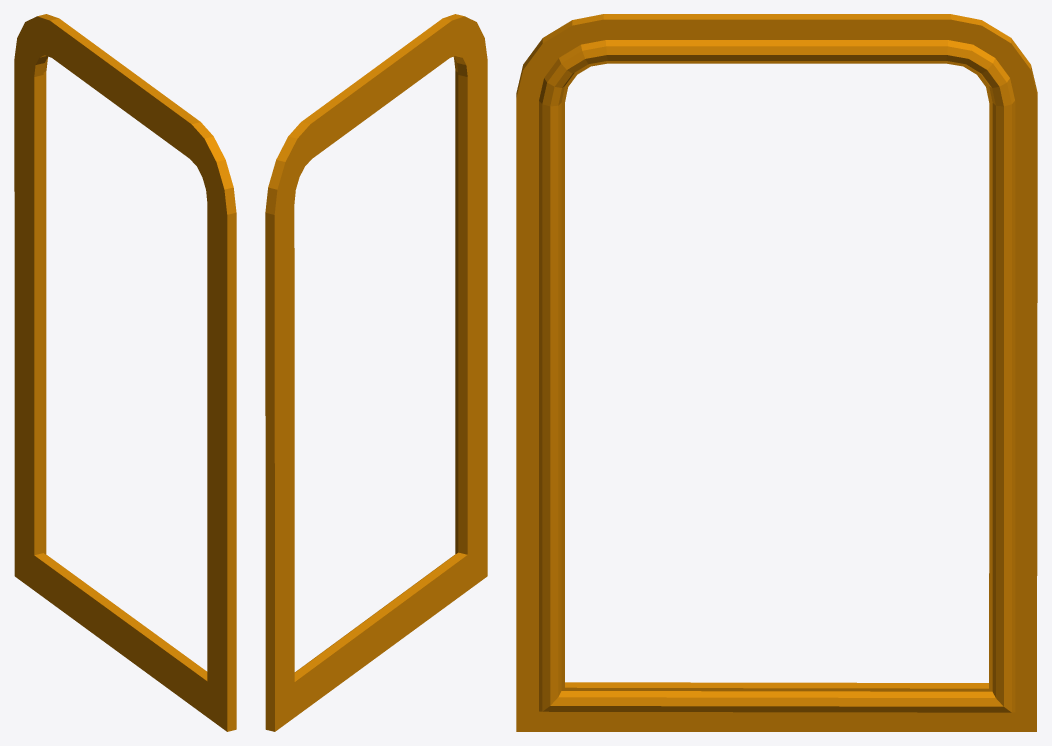
Rendered from Mirror_Frame.gltf.
The picture shows the model from 3 angles, left to right: view 1: azimuth 30°, elevation 25°; view 2: azimuth 150°, elevation 25°; view 3: azimuth 270°, elevation 25°; orthographic projection. The views are drawn at different scales.
Parts seen in each view (by area): view 1: Mirror_Frame; view 2: Mirror_Frame; view 3: Mirror_Frame.
Boxes of the visible parts, x1=… form: Mirror_Frame: x1=14, y1=14, x2=236, y2=731; Mirror_Frame: x1=265, y1=14, x2=487, y2=731; Mirror_Frame: x1=516, y1=14, x2=1037, y2=731.
Bounding box in the file's own units: 0.3024 × 9.7 × 6.44.
